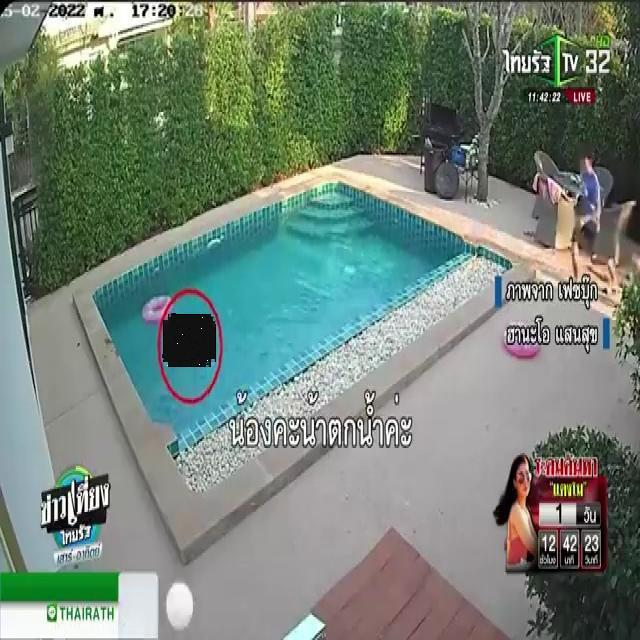Out of Water: (164, 315, 215, 366)
